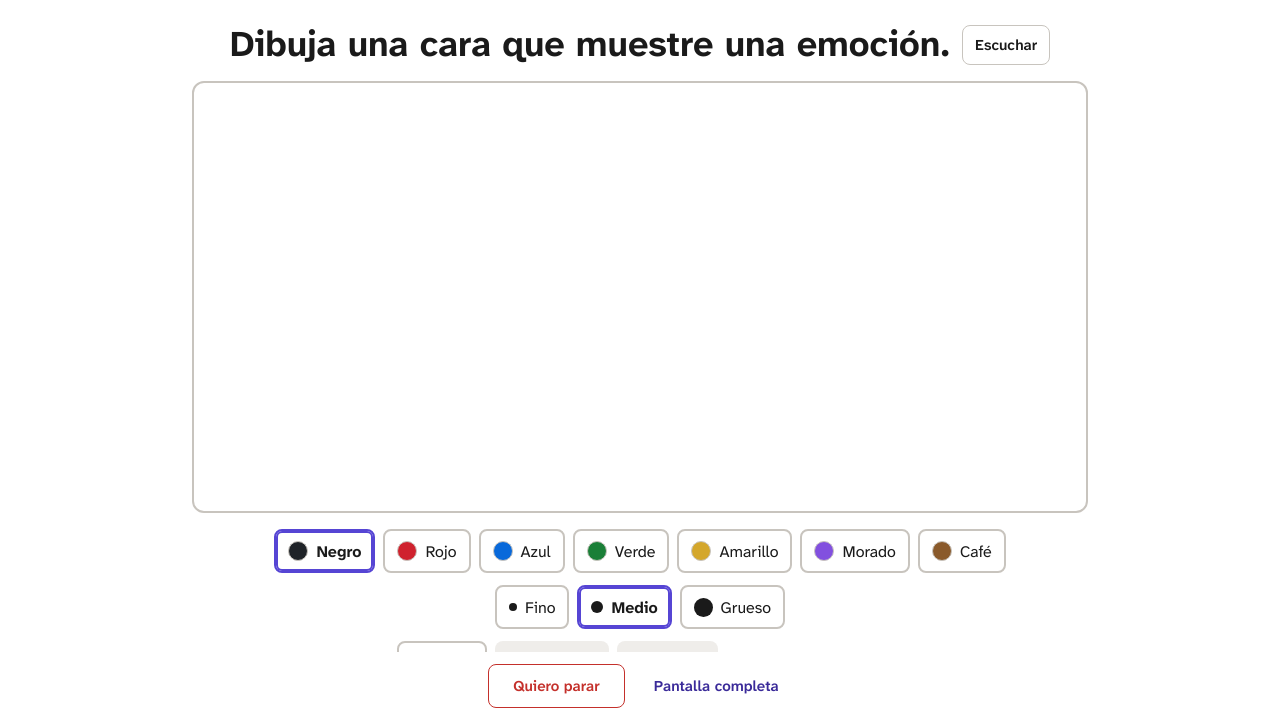
el dibujo en la pantalla de la persona › dibuja, pulsa «Terminé» y no se le pregunta qué emoción quiso dibujar
Press the mouse on the picture named "Lienzo": (640, 297) [192,81,1088,513]
(page scrolled)
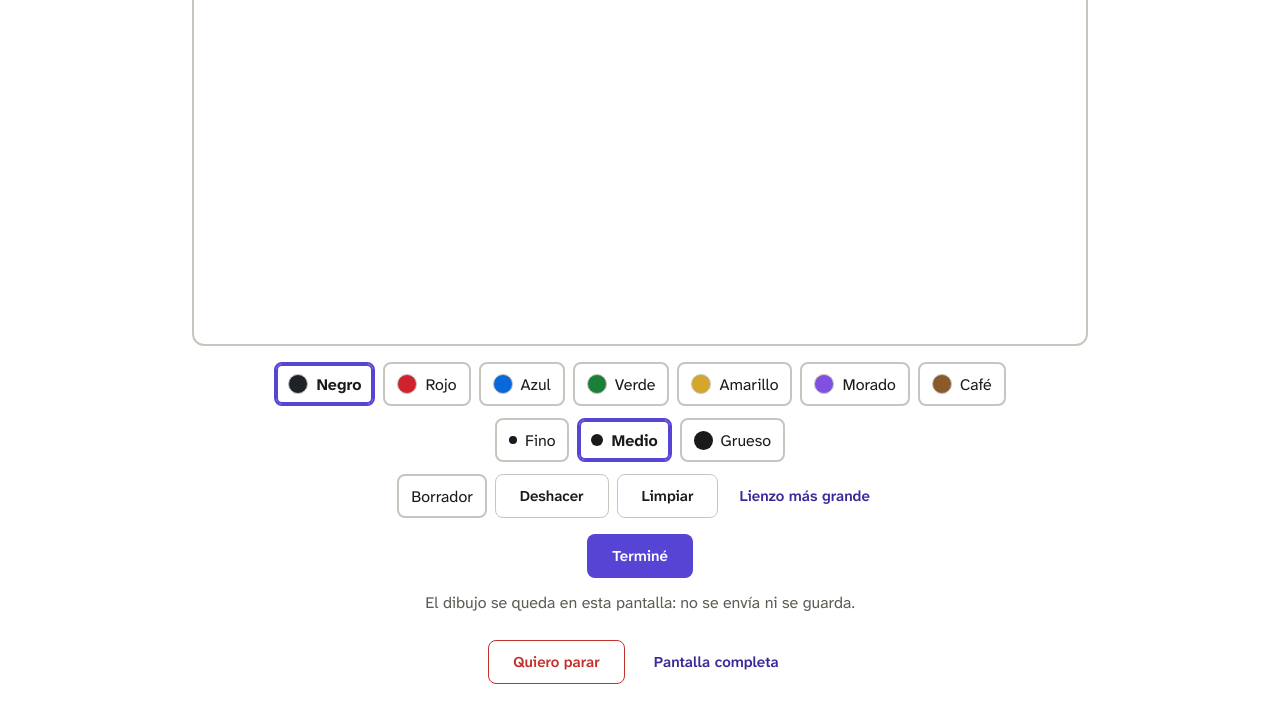
Click the button "Terminé": (640, 556) [587,534,693,578]
(page scrolled)
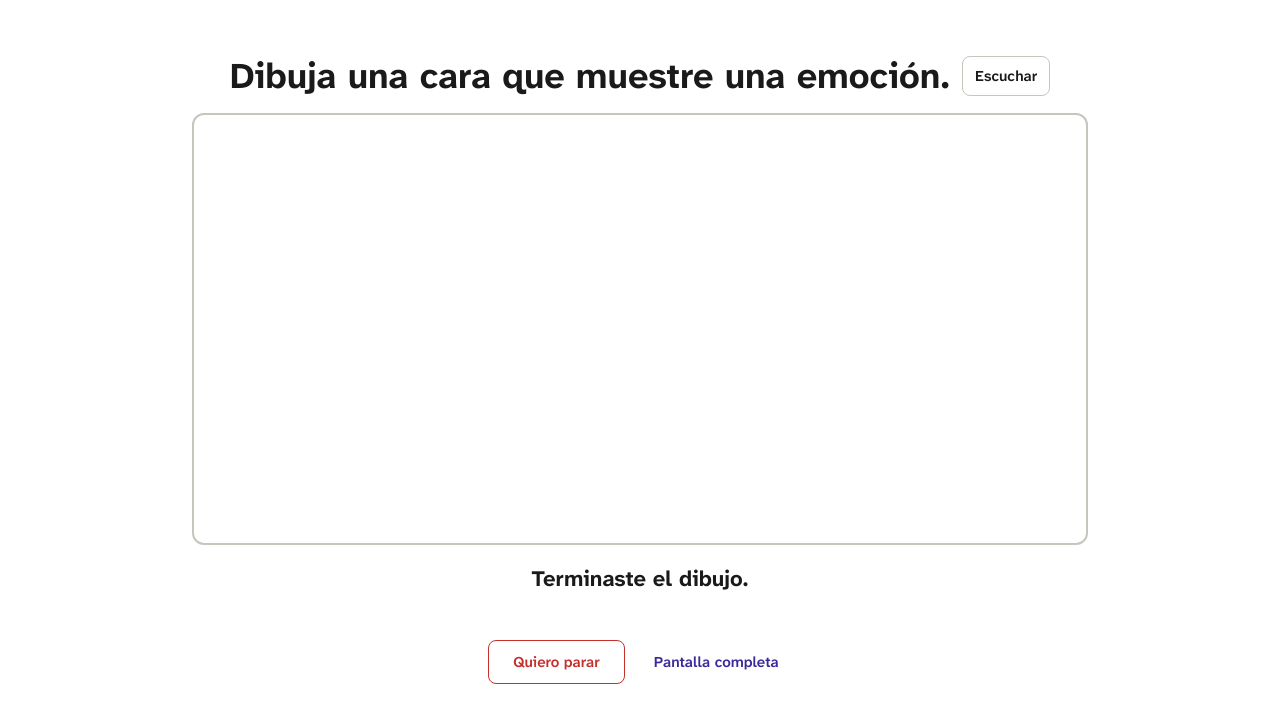
Expected: the text "Terminaste el dibujo." is shown, [532,561,748,596]
